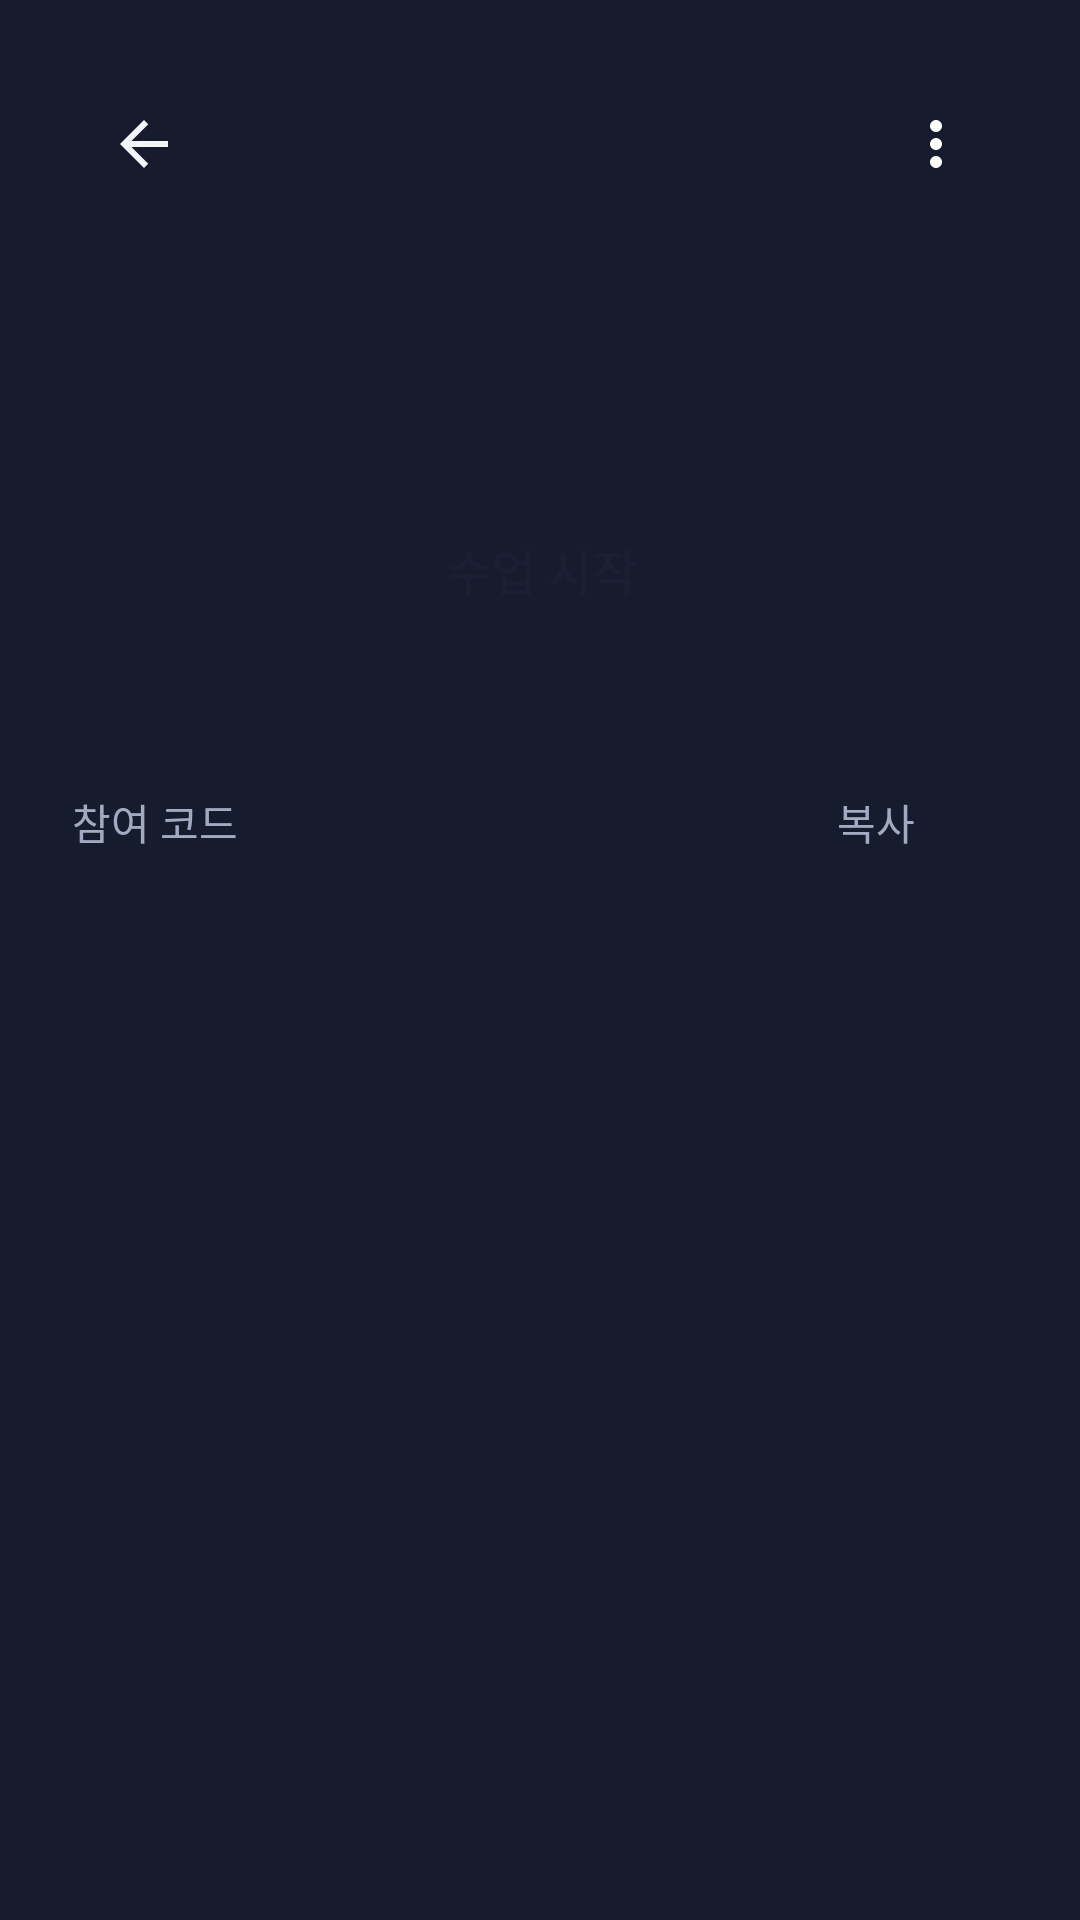

Named icons in this screenshot (1080×1920) and their centers, (x=x, y=y):
뒤로 가기: (x=144, y=144)
메뉴: (x=936, y=144)
